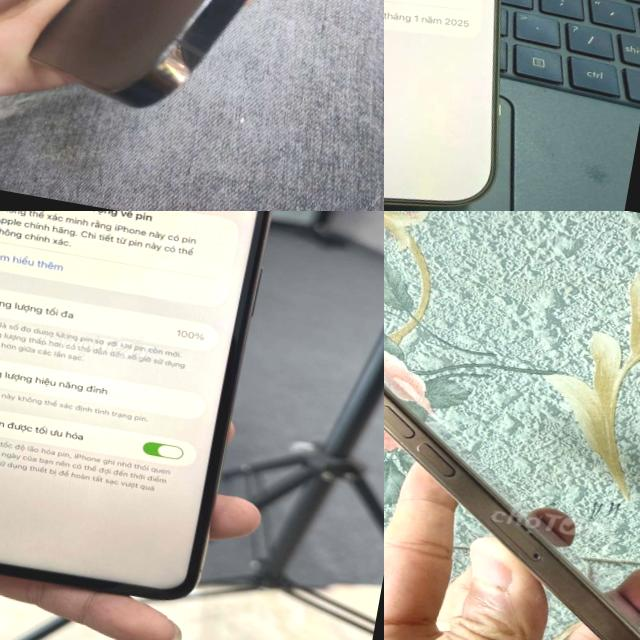gen_11: (0, 211, 290, 622)
gen_12_13: (21, 0, 384, 162)
gen_16: (384, 299, 640, 640), (384, 0, 501, 205)
